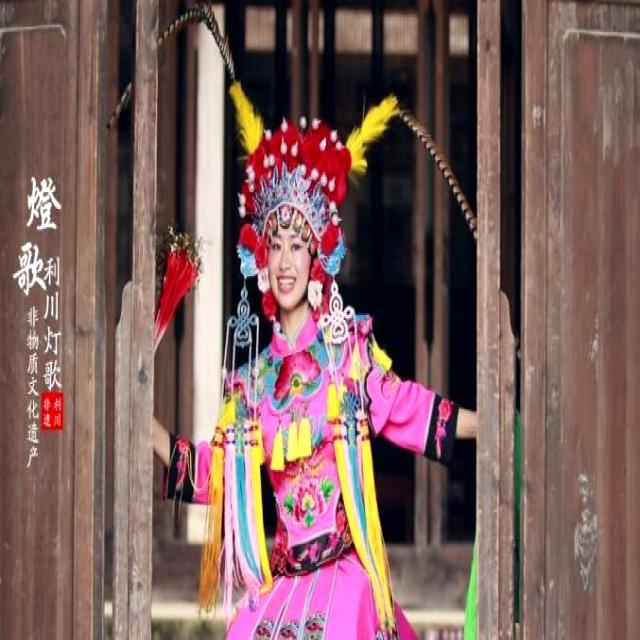Reeves-s Pheasant: (101, 5, 241, 152), (397, 99, 476, 243)
